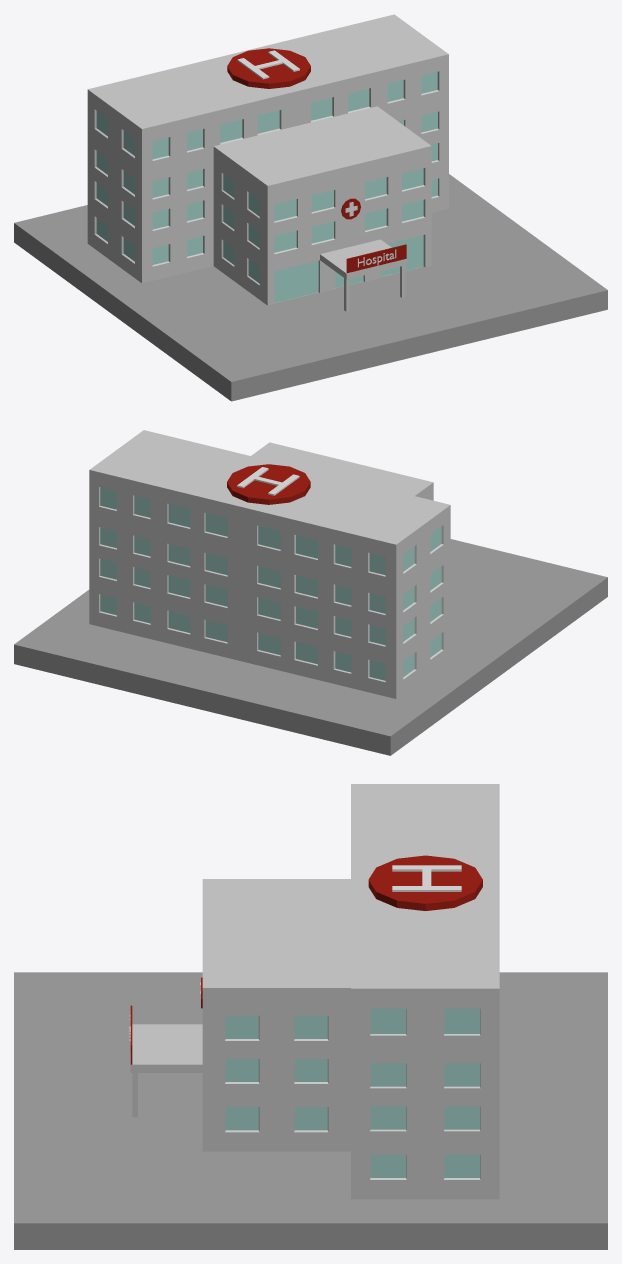
The model's file is Hospital_1.fbx.
The picture shows the model from 3 angles, top to bottom: view 1: azimuth 30°, elevation 25°; view 2: azimuth 150°, elevation 25°; view 3: azimuth 270°, elevation 25°; orthographic projection. The views are drawn at different scales.
Parts seen in each view (by area): view 1: Circle; view 2: Circle; view 3: Circle.
Part boxes in pixels (bbox=[...]): Circle: bbox=[14, 14, 607, 401]; Circle: bbox=[14, 430, 607, 755]; Circle: bbox=[14, 784, 607, 1249].
Bounding box in the file's own units: 802 × 368 × 802.
